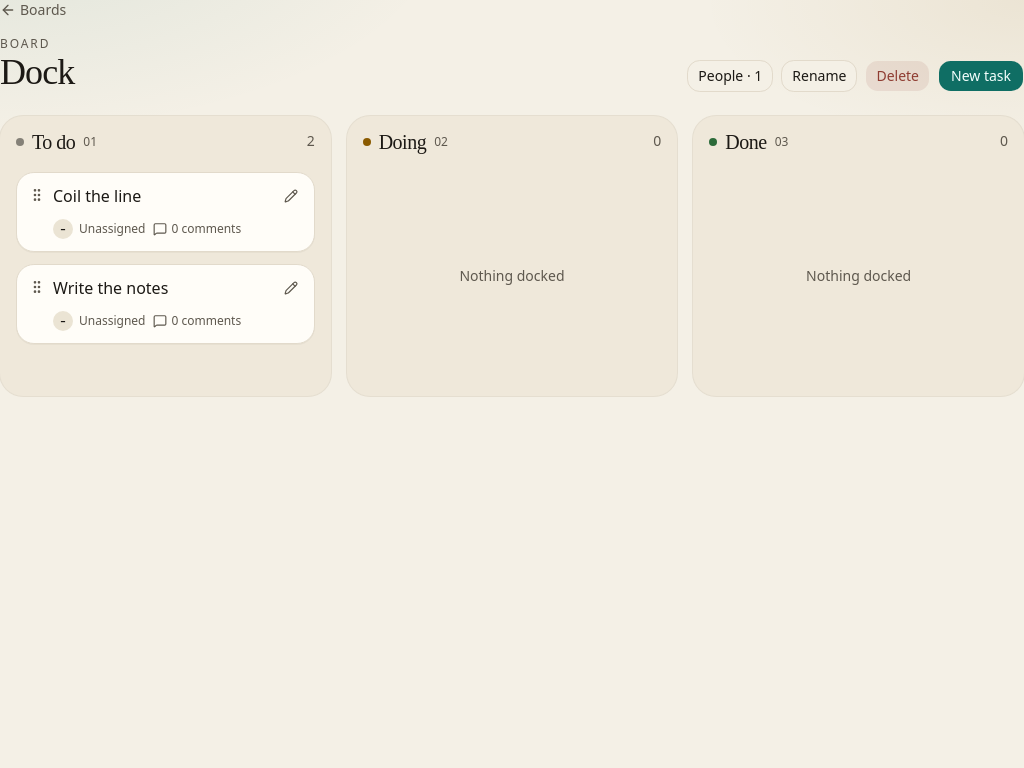
Test: BoardPage comments › ignores a comment response for a task that is no longer open
Click the button named "Edit Coil the line" at {"x": 291, "y": 196}, box [277,182,305,210]
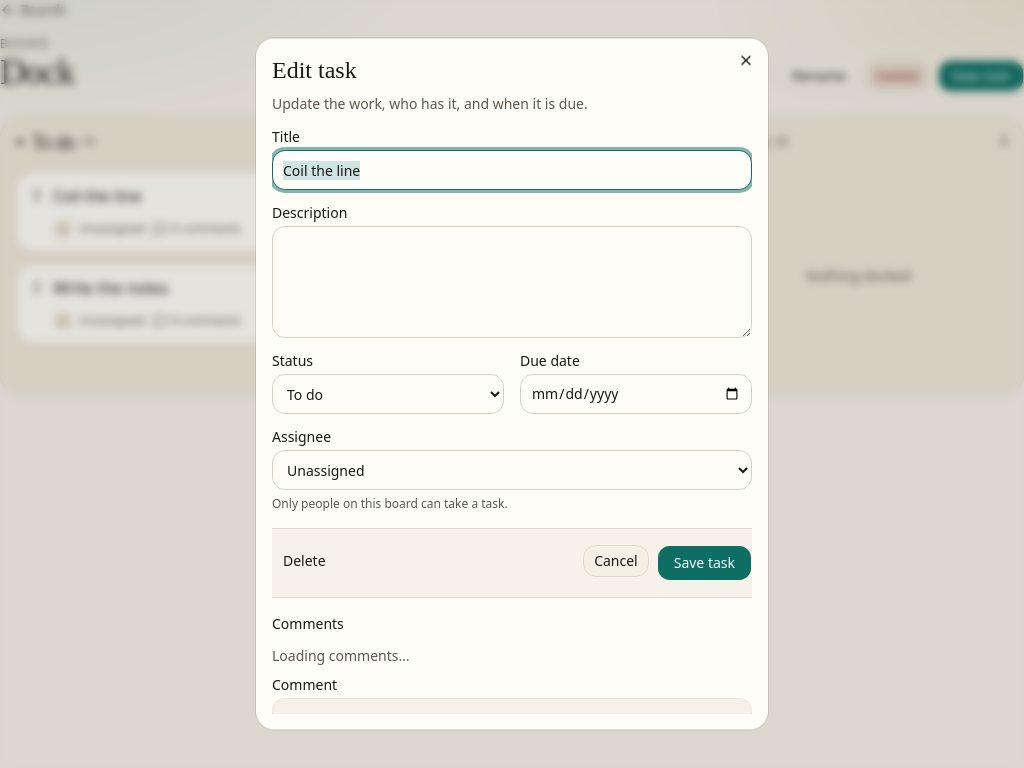
Check: the text "Loading comments…" is shown, box [272,646,410,665]
Click the button "Cancel" at {"x": 616, "y": 561}, box [583,545,649,577]
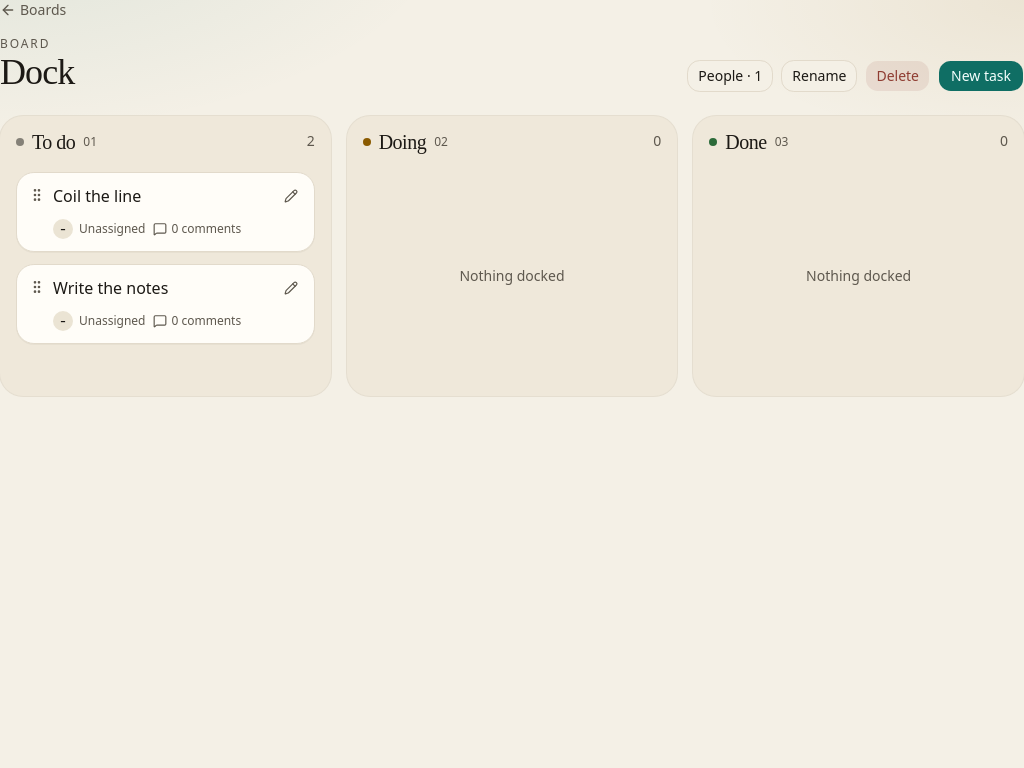
Click the button named "Edit Write the notes" at {"x": 291, "y": 288}, box [277,274,305,302]
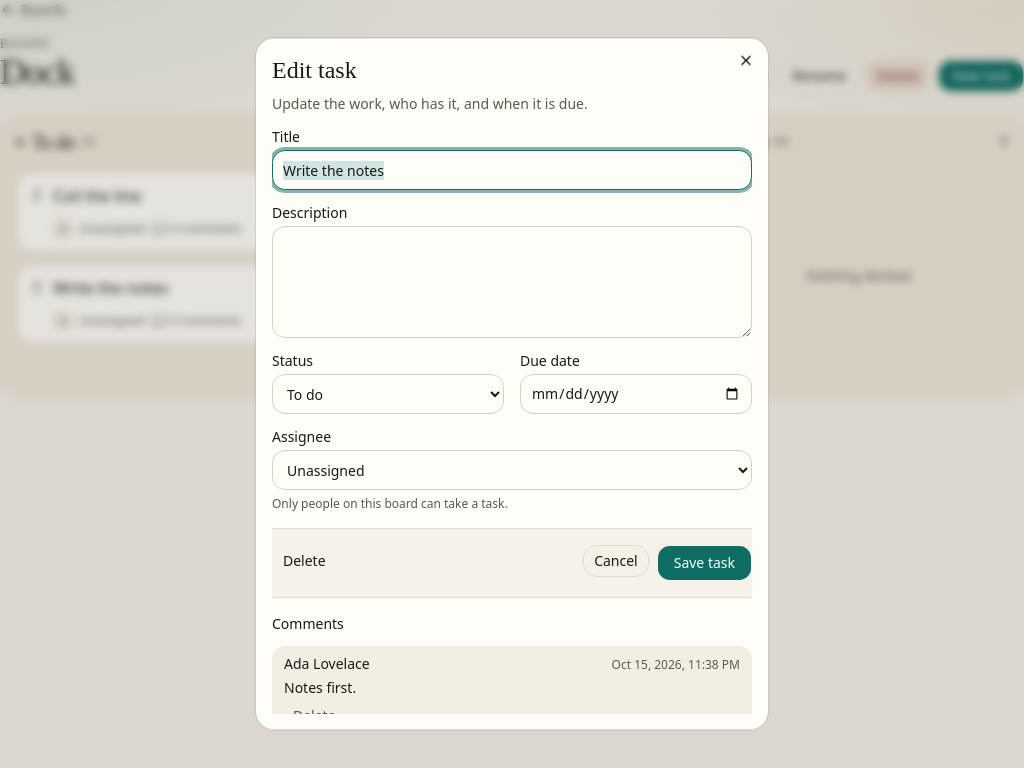
Check: the text "Notes first." is shown, box [284,678,356,697]
